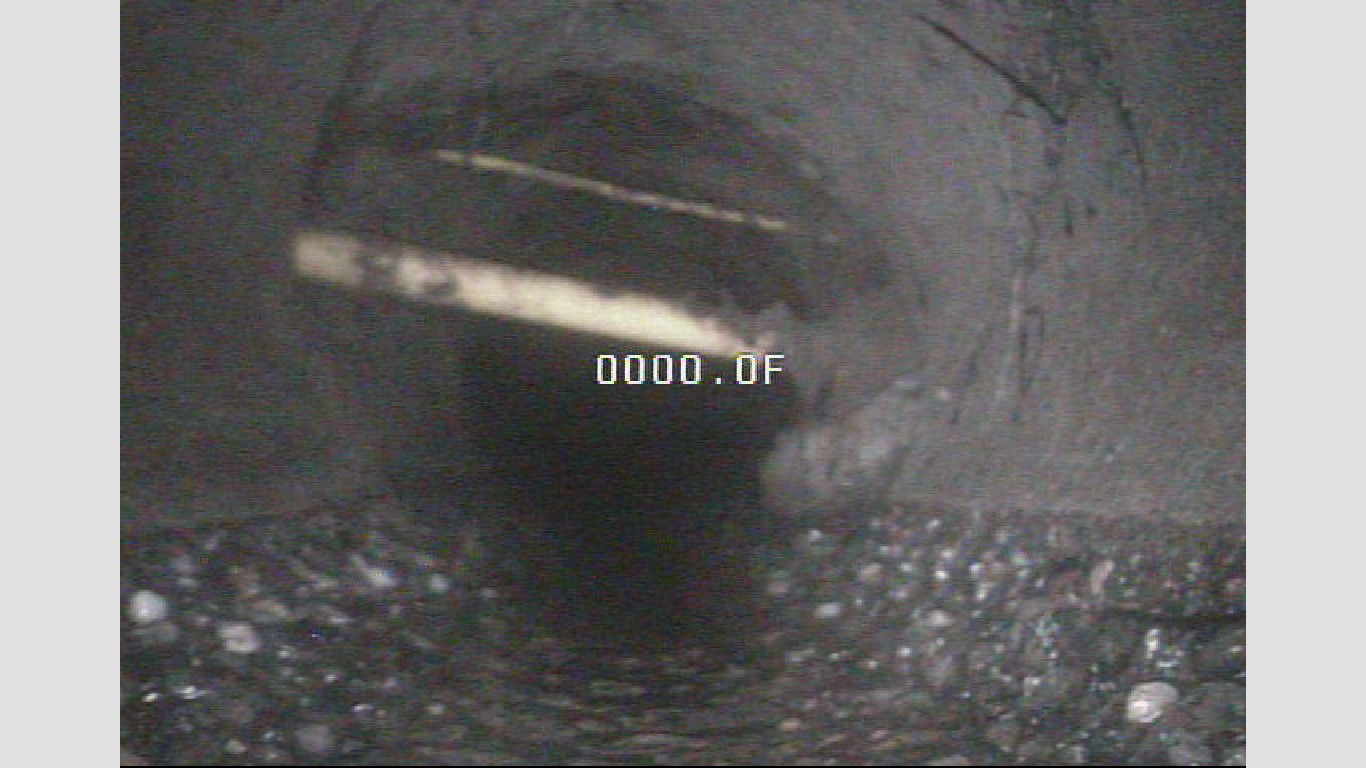cb: (248, 207, 887, 392), (370, 98, 1014, 264)
